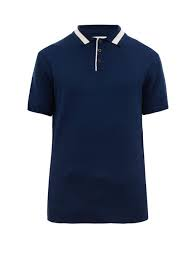C_polo shirt: (28, 25, 174, 231)
